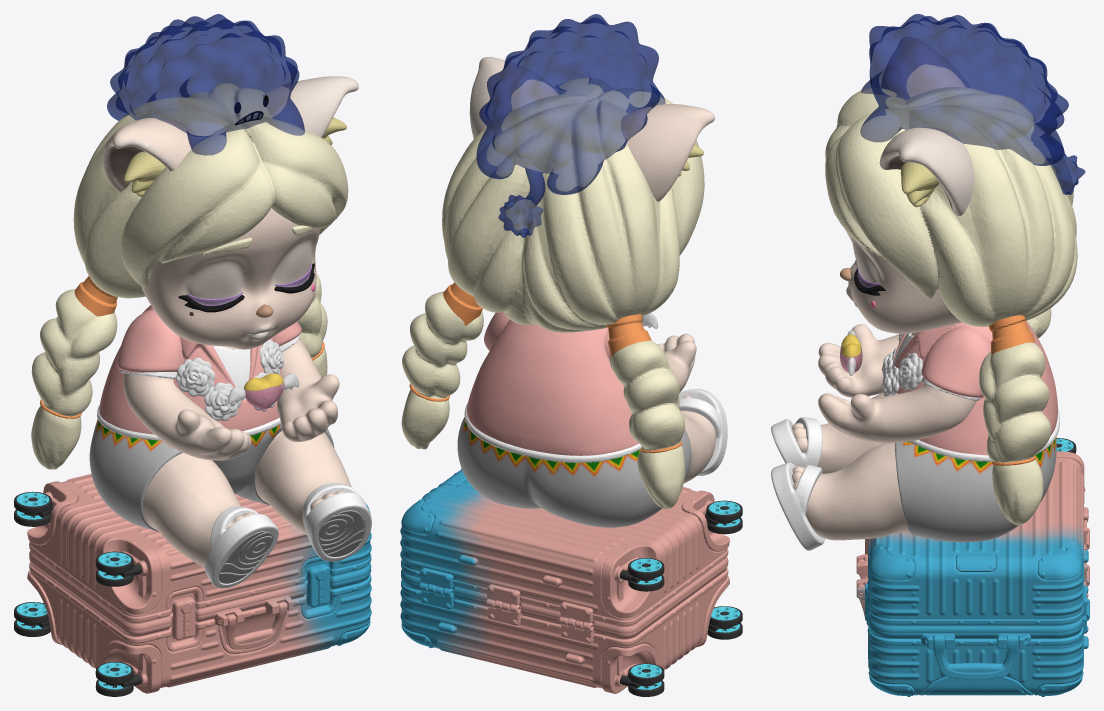
File: mainq7.glb
3 renders of one model, left to right at view 1: azimuth 30°, elevation 25°; view 2: azimuth 150°, elevation 25°; view 3: azimuth 270°, elevation 25°, orthographic. The views are drawn at different scales.
Parts seen in each view (by area): view 1: NFT Rare Hair 3, Rimo_Alex_1, Whitepink_Puremakeup, Bowling_Shirt_Flower, Sandal_Whitegrey, Indian_Grey, NFT Rare Heart, Purple Black; view 2: NFT Rare Hair 3, Rimo_Alex_1, Bowling_Shirt_Flower, Indian_Grey, Whitepink_Puremakeup, Sandal_Whitegrey; view 3: NFT Rare Hair 3, Rimo_Alex_1, Whitepink_Puremakeup, Indian_Grey, Bowling_Shirt_Flower, Sandal_Whitegrey, NFT Rare Heart.
Boxes of the visible parts, bbox=[...] form: NFT Rare Hair 3: bbox=[31, 14, 348, 469]; Rimo_Alex_1: bbox=[14, 473, 371, 696]; Whitepink_Puremakeup: bbox=[102, 76, 358, 567]; Bowling_Shirt_Flower: bbox=[97, 305, 301, 440]; Sandal_Whitegrey: bbox=[204, 483, 371, 588]; Indian_Grey: bbox=[89, 405, 334, 531]; NFT Rare Heart: bbox=[228, 373, 299, 409]; Purple Black: bbox=[178, 263, 314, 312]; NFT Rare Hair 3: bbox=[401, 14, 704, 509]; Rimo_Alex_1: bbox=[400, 469, 742, 696]; Bowling_Shirt_Flower: bbox=[464, 312, 641, 461]; Indian_Grey: bbox=[457, 403, 691, 527]; Whitepink_Puremakeup: bbox=[469, 57, 715, 483]; Sandal_Whitegrey: bbox=[679, 389, 727, 475]; NFT Rare Hair 3: bbox=[825, 14, 1085, 525]; Rimo_Alex_1: bbox=[856, 438, 1089, 696]; Whitepink_Puremakeup: bbox=[792, 37, 976, 540]; Indian_Grey: bbox=[895, 409, 1059, 542]; Bowling_Shirt_Flower: bbox=[881, 320, 1059, 460]; Sandal_Whitegrey: bbox=[771, 417, 824, 550]; NFT Rare Heart: bbox=[840, 330, 862, 375].
Size of the model in its own units: 44.33 by 91.61 by 42.65.
11 materials, 1 textured.
